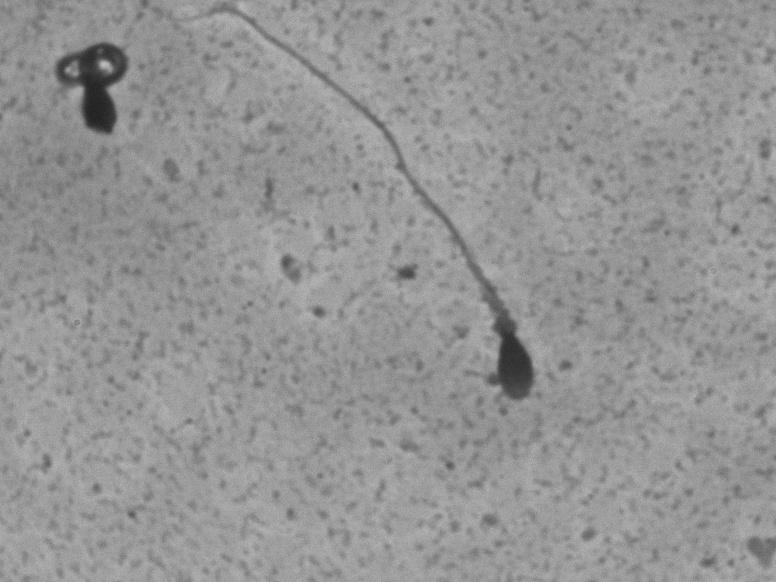Abnormal: (347, 41, 586, 416)
